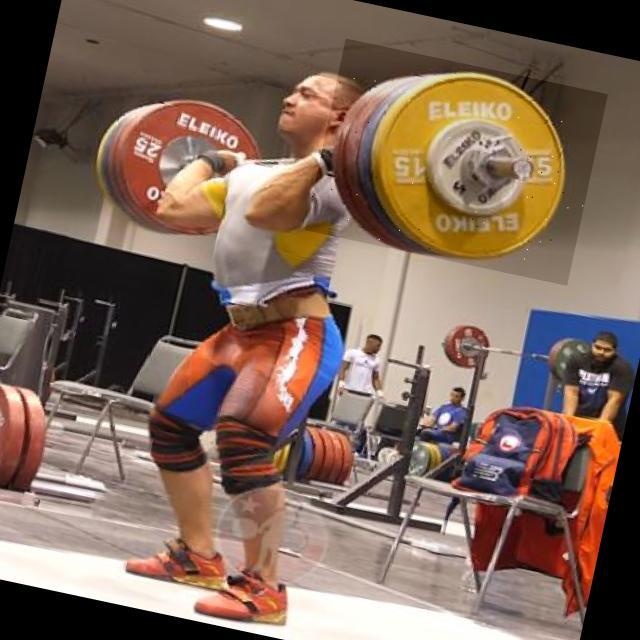barbell: (306, 40, 609, 287)
